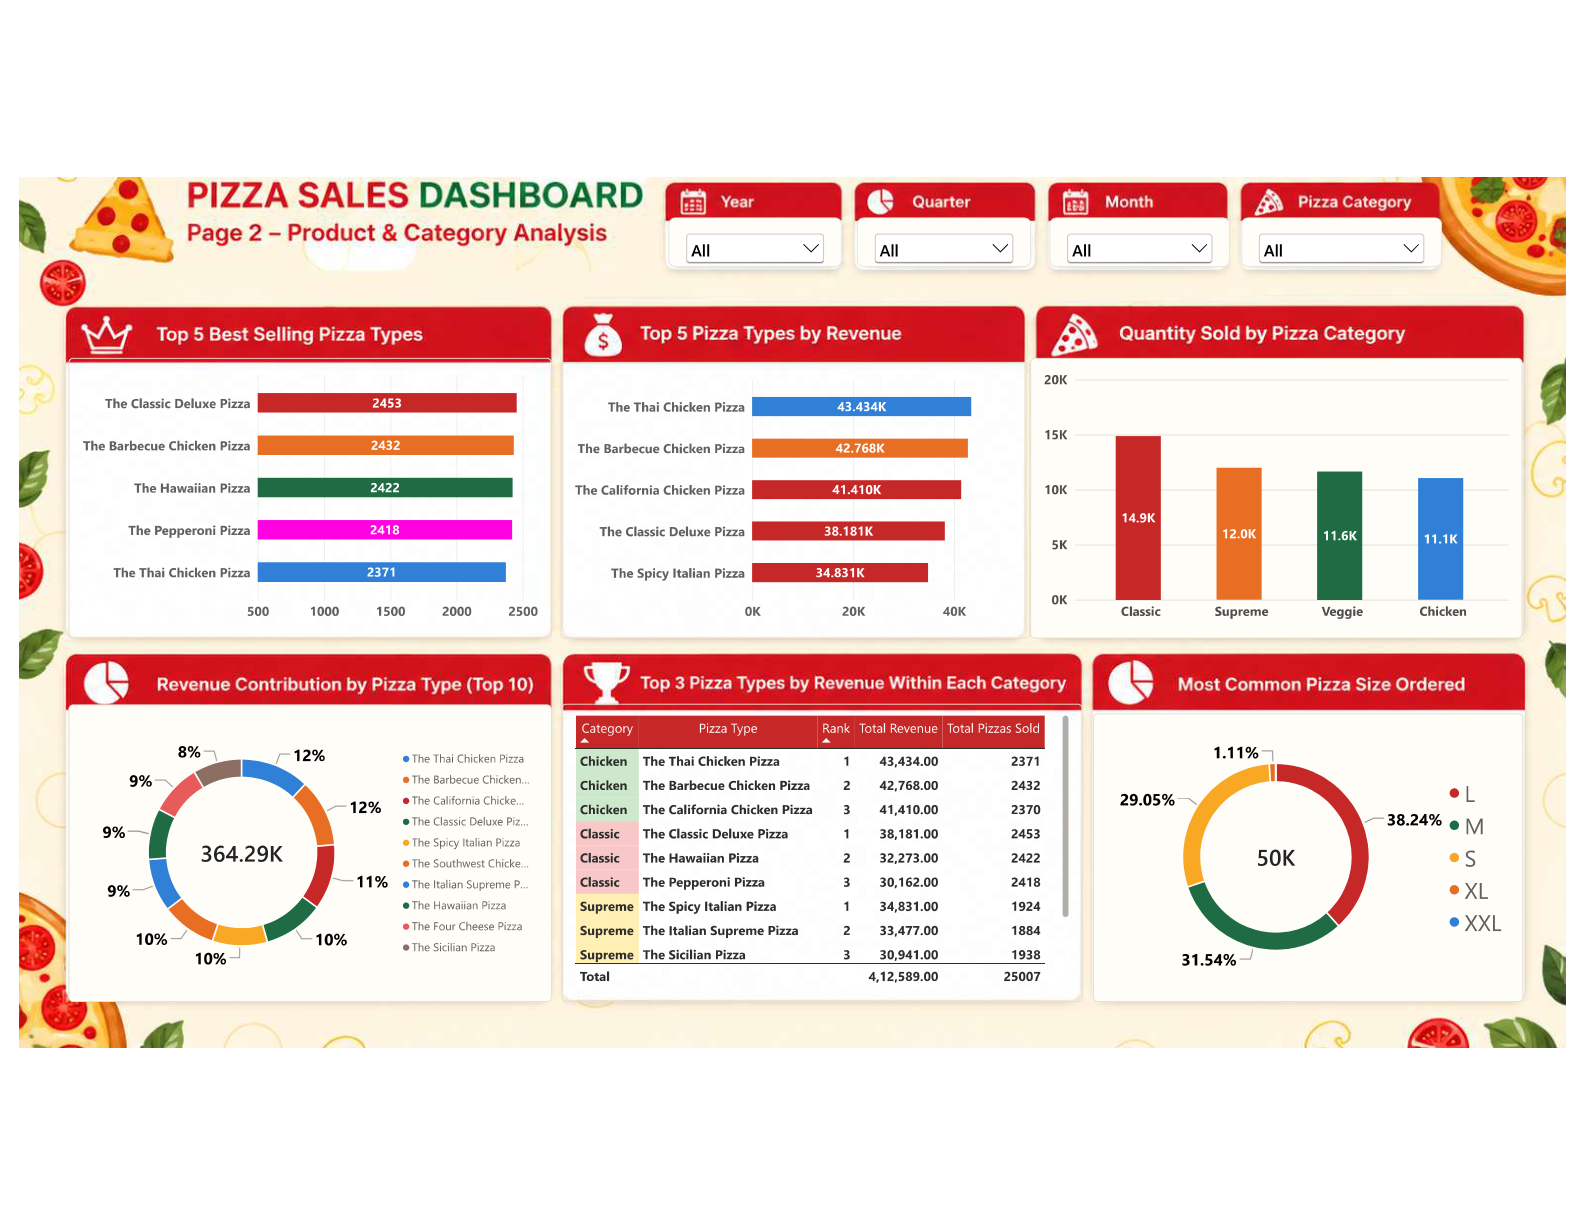

This screenshot's page, from the dashboard's own definition file:
{"tool":"powerbi","page":{"name":"Page 2","canvas":[1920,1080],"ordinal":1},"visuals":[{"type":"barChart","fields":{"Category":["working pizza_types.name"],"Y":["working order_details.Total_Pizzas_Sold"]},"box":[61,223.6,599.6,348.9],"z":0},{"type":"clusteredBarChart","fields":{"Category":["working pizza_types.name"],"Y":["working order_details.Total_Revenue"]},"box":[672.4,228.7,582.6,343.8],"z":1000},{"type":"columnChart","fields":{"Category":["working pizza_types.category"],"Y":["working order_details.Total_Pizzas_Sold"]},"box":[1255.1,223.6,611.4,348.9],"z":2000},{"type":"donutChart","fields":{"Category":["working pizza_types.name"],"Y":["working order_details.Total_Revenue"]},"box":[61,653.8,599.6,369.2],"z":3000},{"type":"tableEx","fields":{"Values":["working pizza_types.category","working pizza_types.name","working order_details.Rank Within Category","working order_details.Total_Revenue","working order_details.Total_Pizzas_Sold"]},"box":[673.3,653.3,646.7,370],"z":4000},{"type":"donutChart","fields":{"Category":["working pizzas.size"],"Y":["working order_details.Total_Pizzas_Sold"]},"box":[1333.3,665,533.3,358.3],"z":4001},{"type":"slicer","fields":{"Values":["working orders.date.Variation.Date Hierarchy.Year"]},"box":[805.7,50,215.7,61.4],"z":4002},{"type":"slicer","fields":{"Values":["working orders.date.Variation.Date Hierarchy.Month"]},"box":[1278.6,50,224.3,61.4],"z":4003},{"type":"slicer","fields":{"Values":["working orders.date.Variation.Date Hierarchy.Quarter"]},"box":[1040,50,215.7,61.4],"z":4004},{"type":"slicer","fields":{"Values":["working pizza_types.category"]},"box":[1517.1,50,248.6,61.4],"z":4005}]}

Visuals, with their boxes on the page's 1920x1080 design canvas (x1, y1, x2, y2). These are canvas units, not pixel positions in the 1584x1224 screenshot, which may show the page scaled, cropped or inside an application window:
barChart - working pizza_types.name x working order_details.Total_Pizzas_Sold: (left=61, top=224, right=661, bottom=572)
clusteredBarChart - working pizza_types.name x working order_details.Total_Revenue: (left=672, top=229, right=1255, bottom=572)
columnChart - working pizza_types.category x working order_details.Total_Pizzas_Sold: (left=1255, top=224, right=1866, bottom=572)
donutChart - working pizza_types.name x working order_details.Total_Revenue: (left=61, top=654, right=661, bottom=1023)
tableEx - working pizza_types.category x working pizza_types.name: (left=673, top=653, right=1320, bottom=1023)
donutChart - working pizzas.size x working order_details.Total_Pizzas_Sold: (left=1333, top=665, right=1867, bottom=1023)
slicer - working orders.date.Variation.Date Hierarchy.Year: (left=806, top=50, right=1021, bottom=111)
slicer - working orders.date.Variation.Date Hierarchy.Month: (left=1279, top=50, right=1503, bottom=111)
slicer - working orders.date.Variation.Date Hierarchy.Quarter: (left=1040, top=50, right=1256, bottom=111)
slicer - working pizza_types.category: (left=1517, top=50, right=1766, bottom=111)
